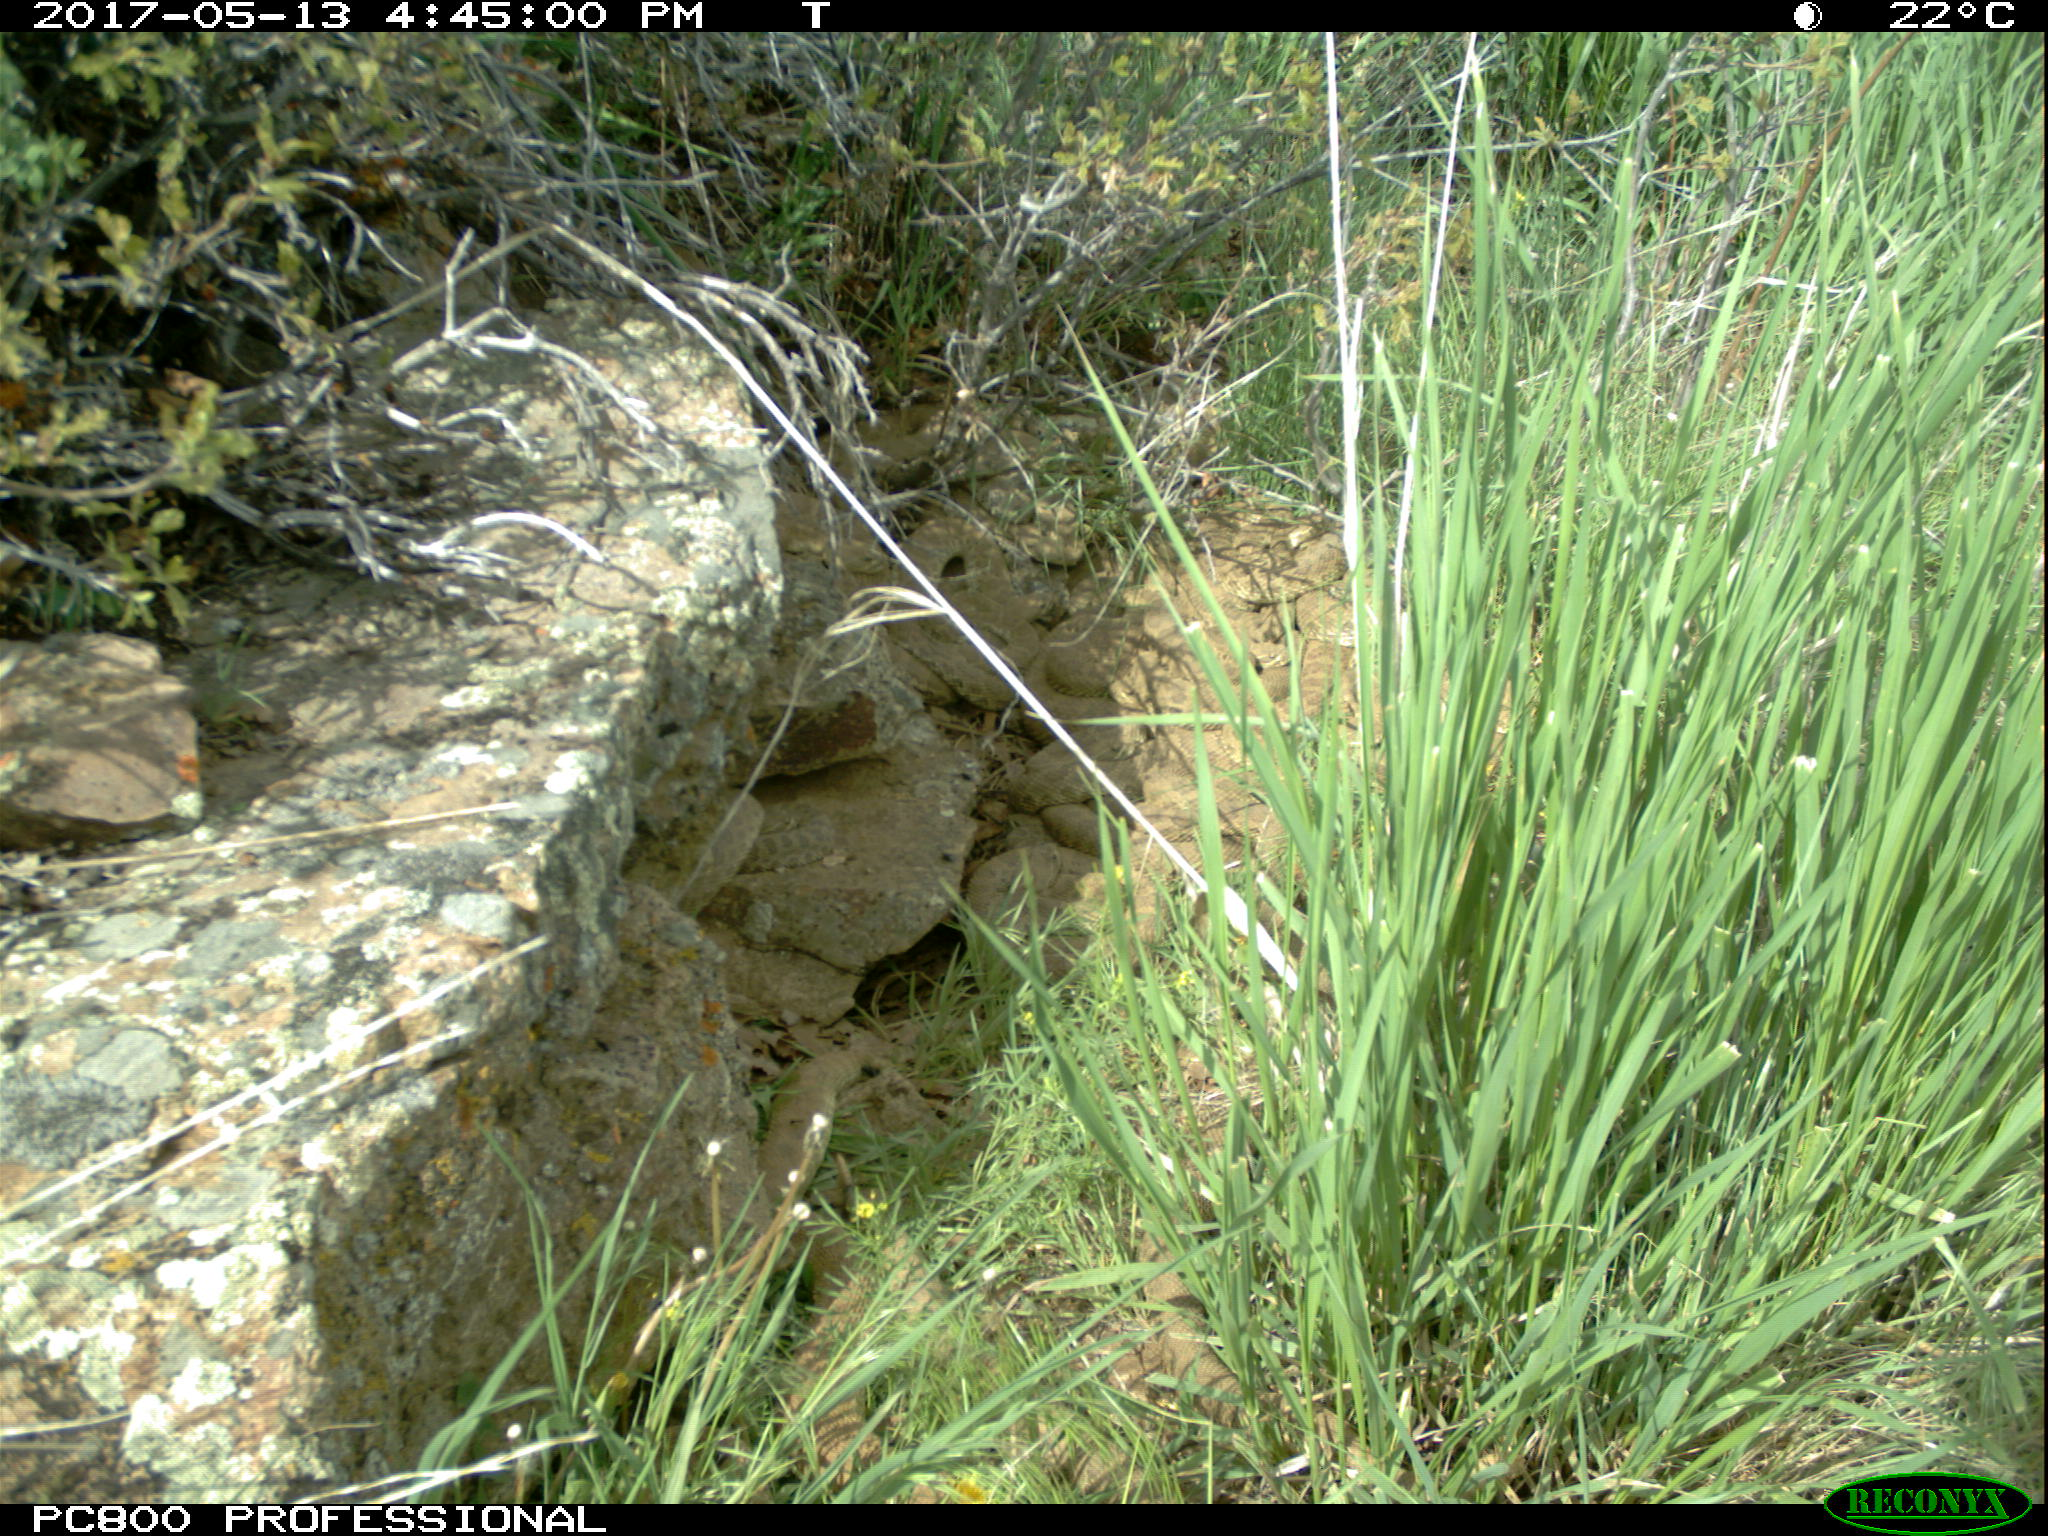snake: (764, 1049, 889, 1484), (1008, 745, 1293, 870), (887, 520, 1034, 705), (1043, 611, 1247, 736), (963, 844, 1164, 963), (1132, 1239, 1250, 1417), (1247, 592, 1356, 733), (1185, 515, 1350, 599), (747, 805, 847, 863)
